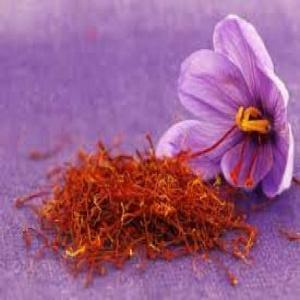Saffron: (154, 12, 298, 198)
